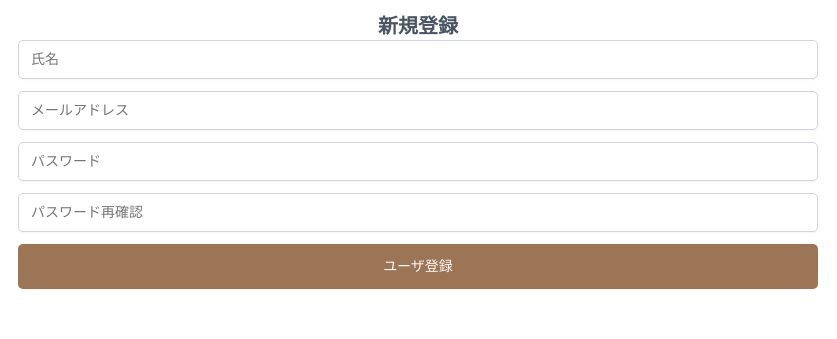
SignupForm › バリデーション › メールアドレスが空の場合エラーが表示される
The width and height of the screenshot is (837, 339).
In the field with placeholder "氏名": [418, 60] box top-left (18, 40), bottom-right (818, 79), type "テストユーザー"
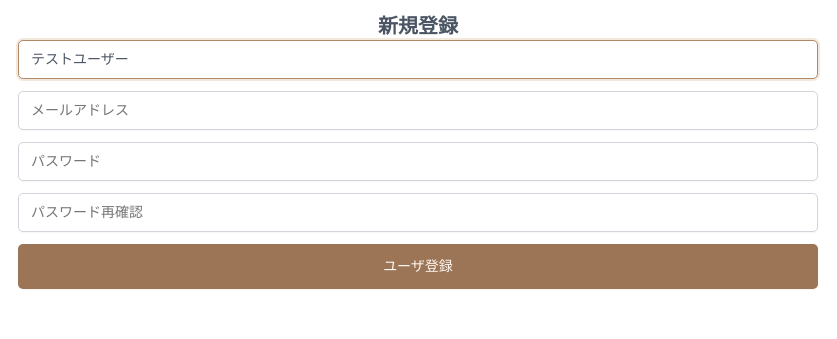
In the password field with placeholder "パスワード": [418, 162] box top-left (18, 142), bottom-right (818, 181), type "password123"
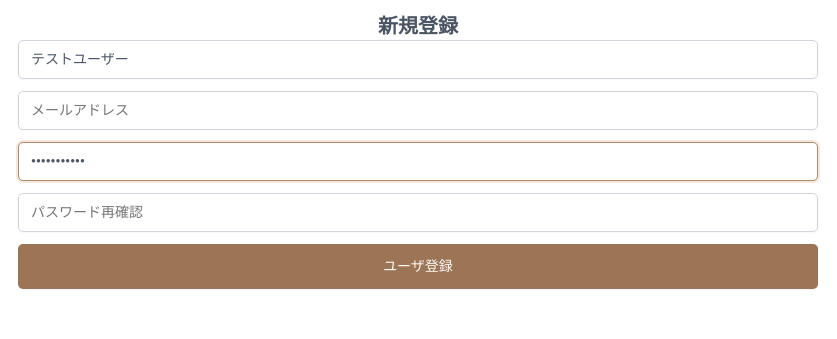
In the password field with placeholder "パスワード再確認": [418, 212] box top-left (18, 193), bottom-right (818, 232), type "password123"
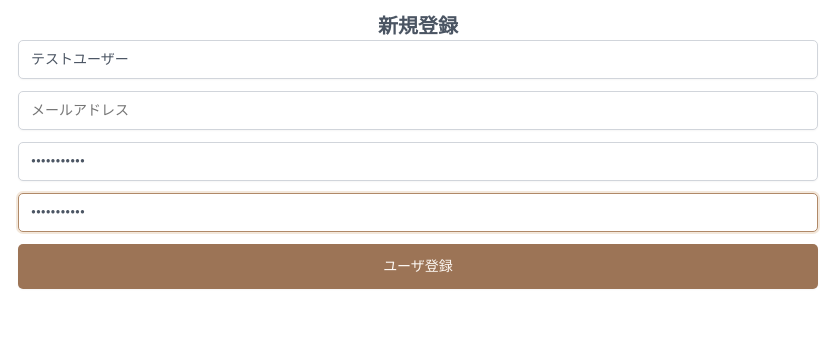
Click the button "ユーザ登録": [418, 266] box top-left (18, 244), bottom-right (818, 289)
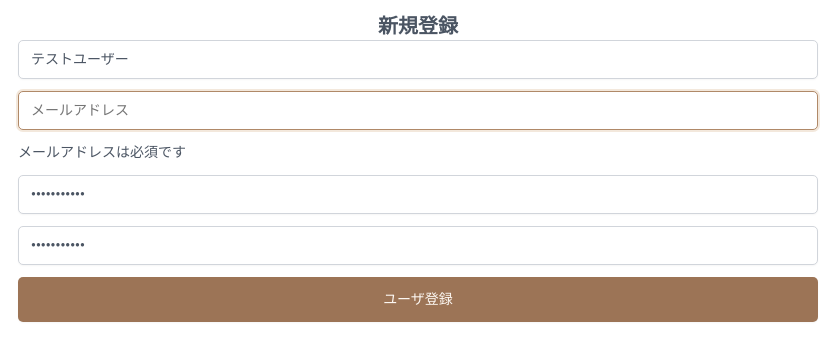
Expected: the text "メールアドレスは必須です" is shown, top-left (18, 145), bottom-right (186, 160)
